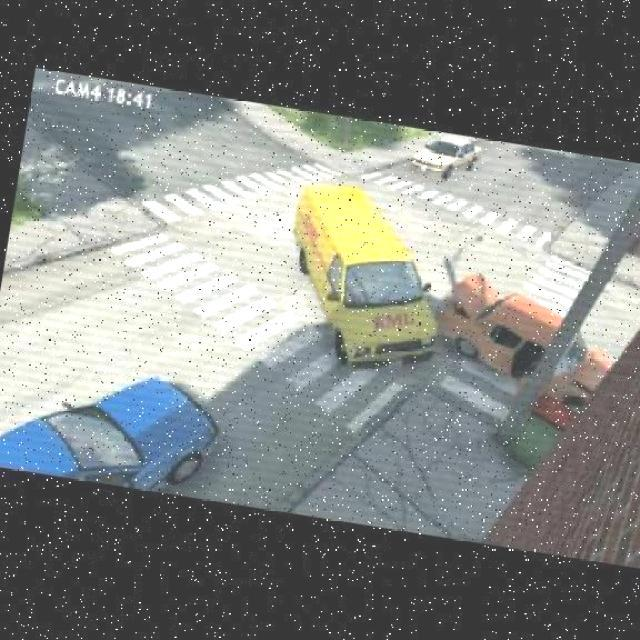accident: (293, 232, 571, 407)
